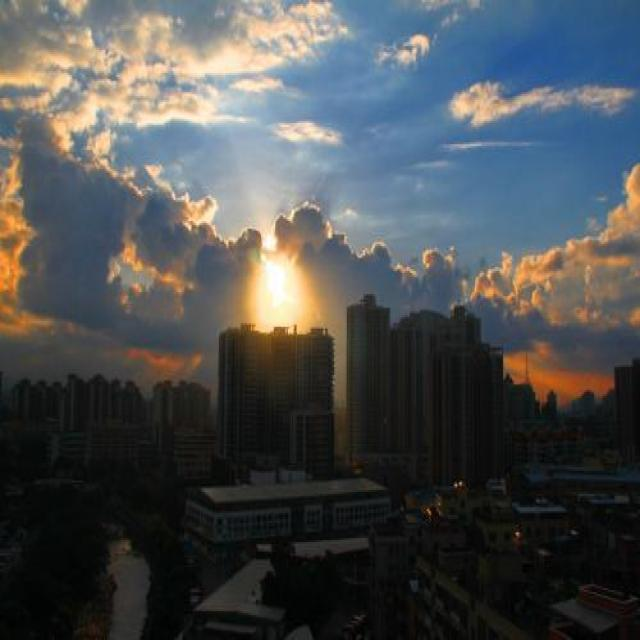other: (228, 209, 333, 351)
